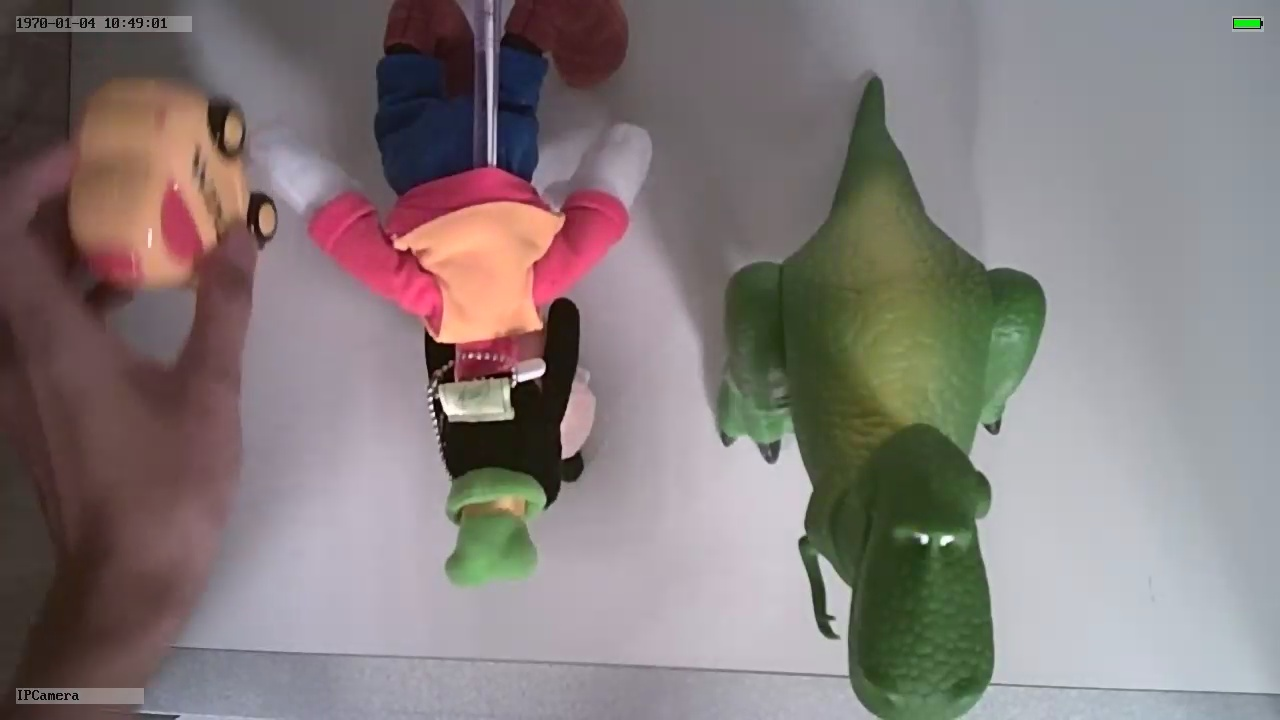rex: (712, 163, 1047, 720)
